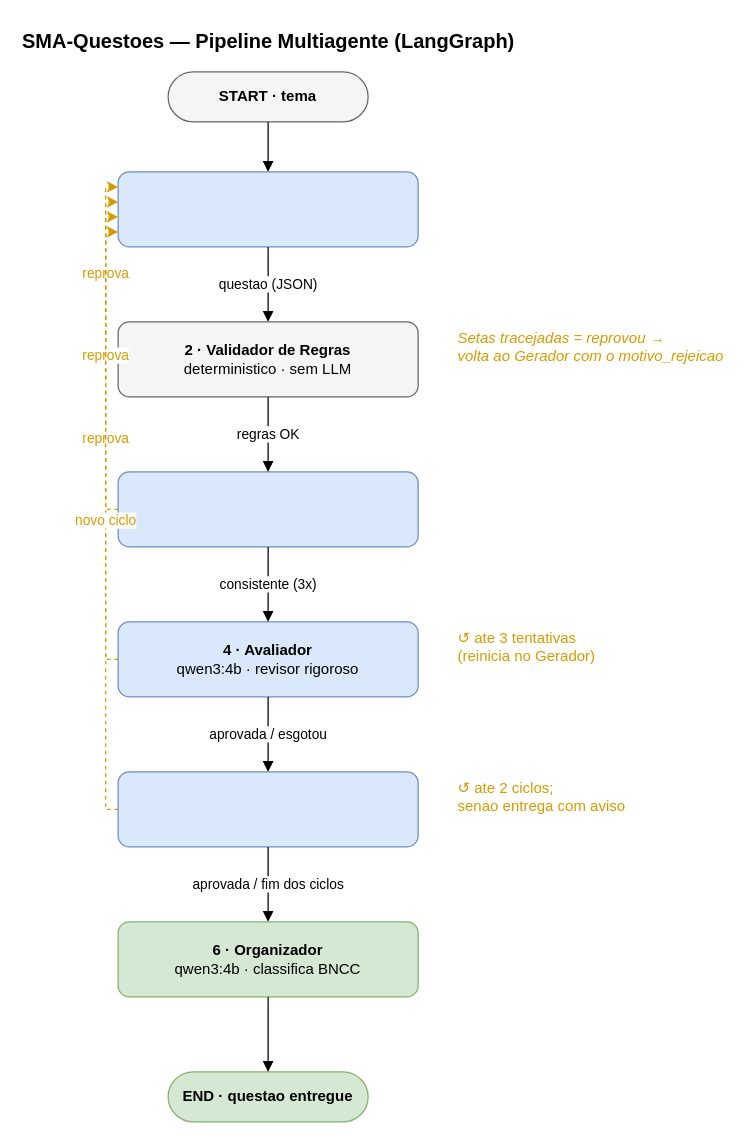
Image size: 751x1144. Some labels were removed from this diagram. The shapes that lost their labels are listed below. From the top down, each one's centre as x and y in pixels, then its label:
At point 267,209: "1 · Gerador qwen3:4b · cria a questao (JSON)".
At point 267,509: "3 · Verificador qwen3:4b · resolve 3x e vota".
At point 267,809: "5 · Avaliador Final qwen3:4b · 2a opiniao".
